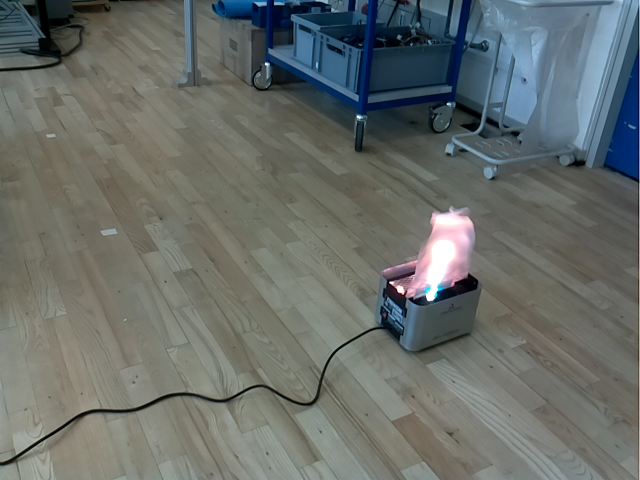fire: (405, 205, 475, 299)
